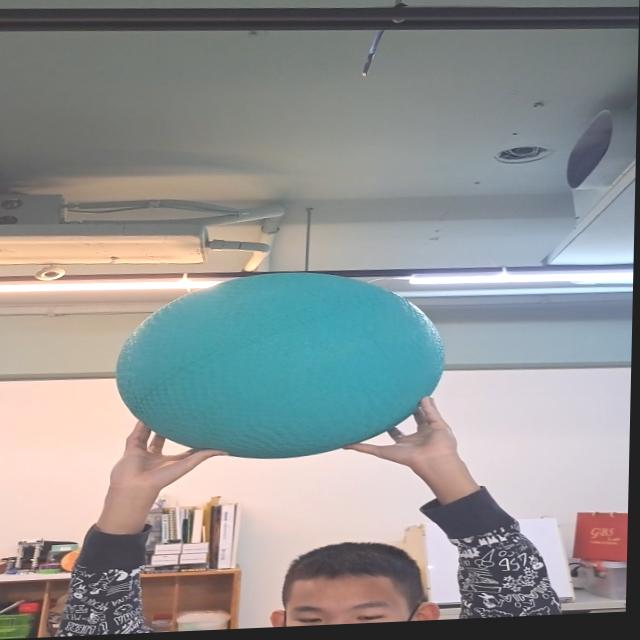ALGAE: (114, 265, 446, 465)
